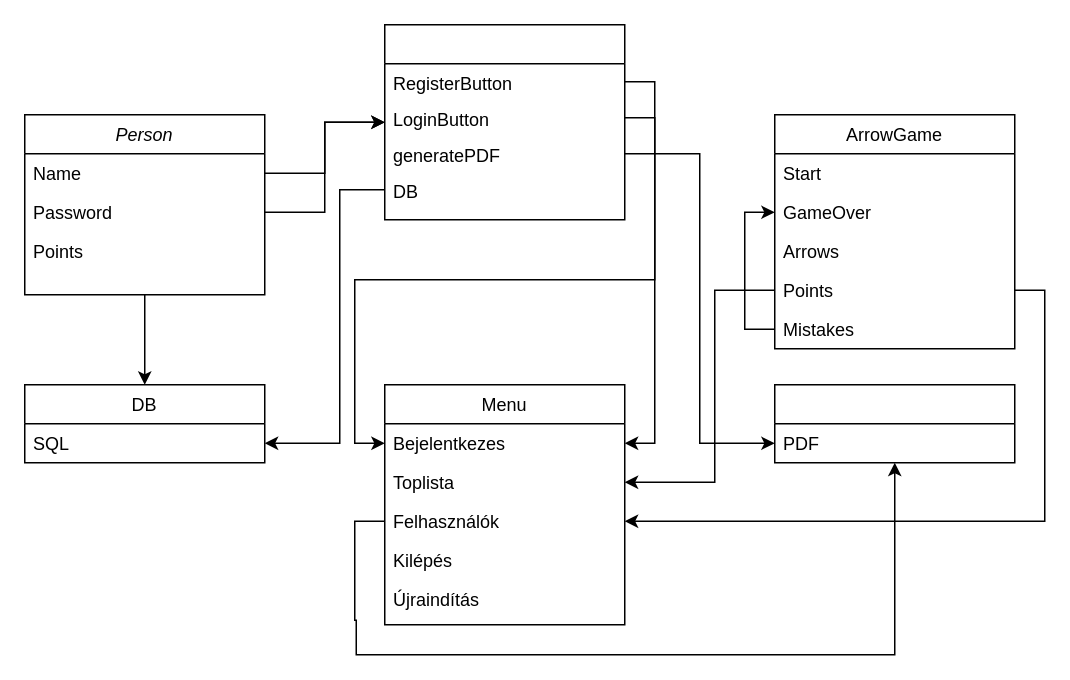
Image size: 1070x680. Some labels were removed from this diagram. The box of each missing label's shape, as (x1, y1, x2, y2) in pixels:
HelloController: (383, 23, 625, 220)
PDFGen: (773, 383, 1015, 463)
